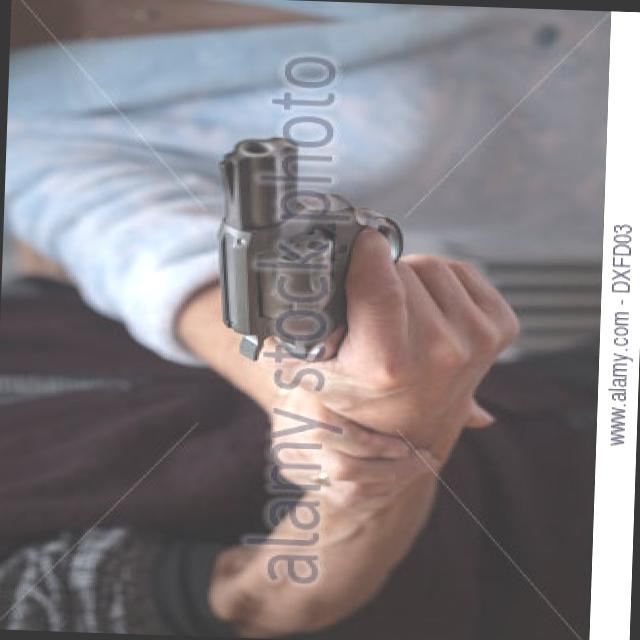handgun: (198, 136, 412, 367)
